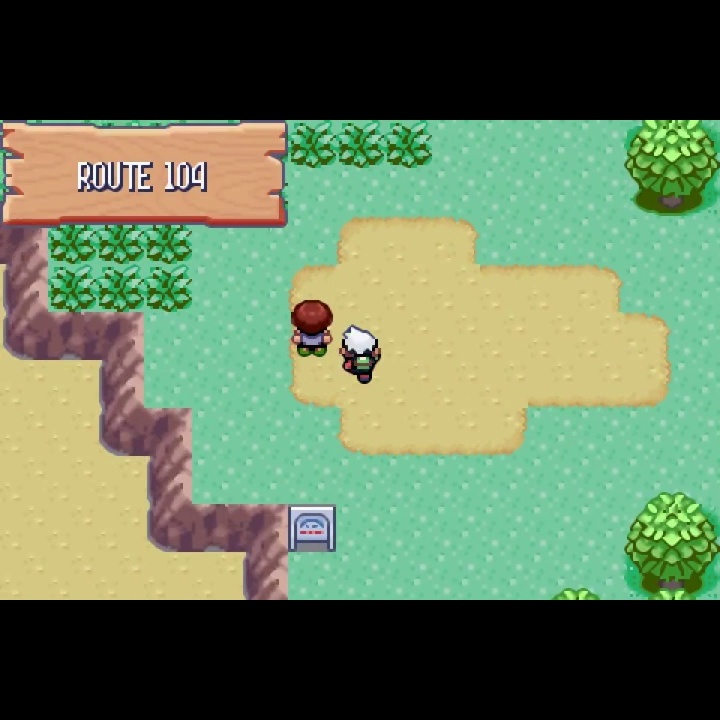grass: (144, 263, 194, 313), (384, 121, 434, 169), (336, 121, 384, 169), (289, 121, 337, 169), (98, 263, 146, 311), (49, 264, 96, 311), (145, 223, 193, 264), (48, 225, 97, 265), (97, 225, 146, 264)
npc: (288, 296, 335, 361), (338, 322, 385, 387)
wall: (621, 490, 720, 601), (623, 120, 720, 218)
